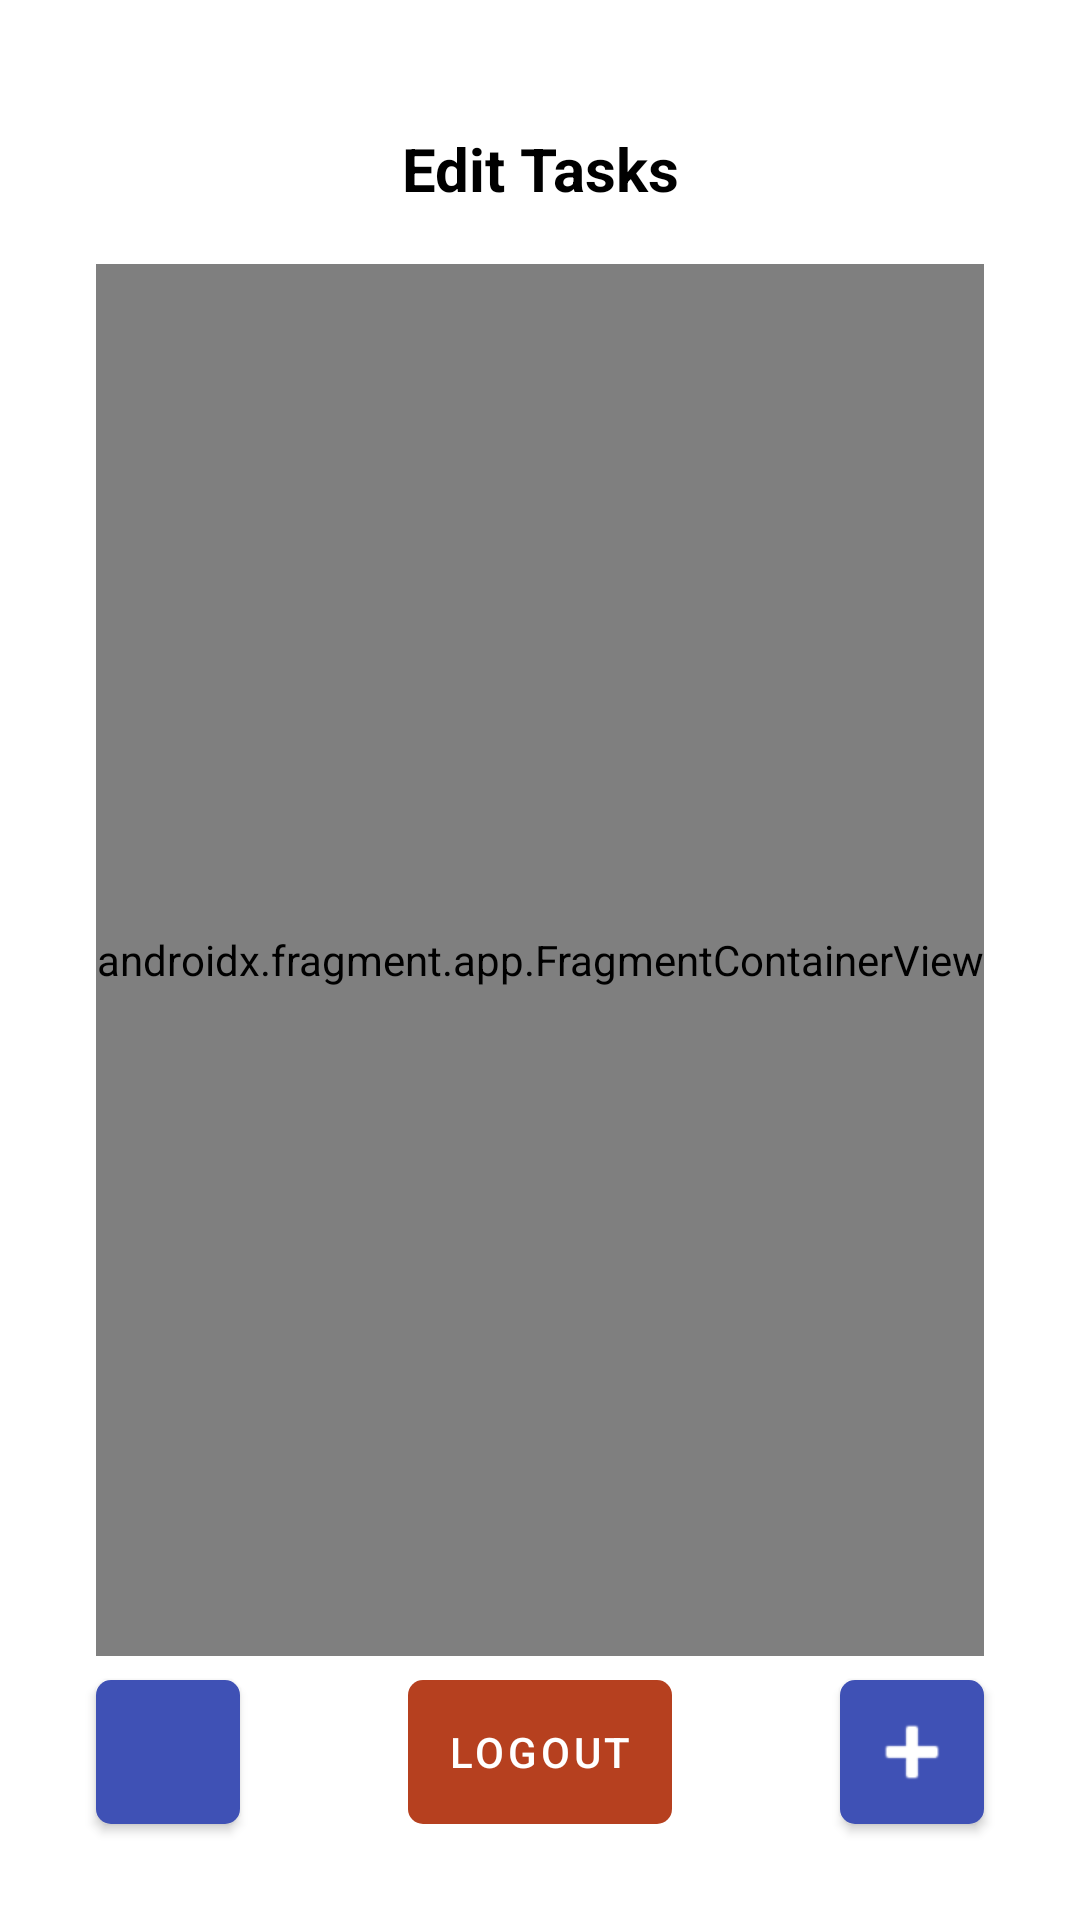

Icons on this 1080×1920 Android screen, each with the point to tap as (x=x, y=y):
Add task: (x=912, y=1752)
